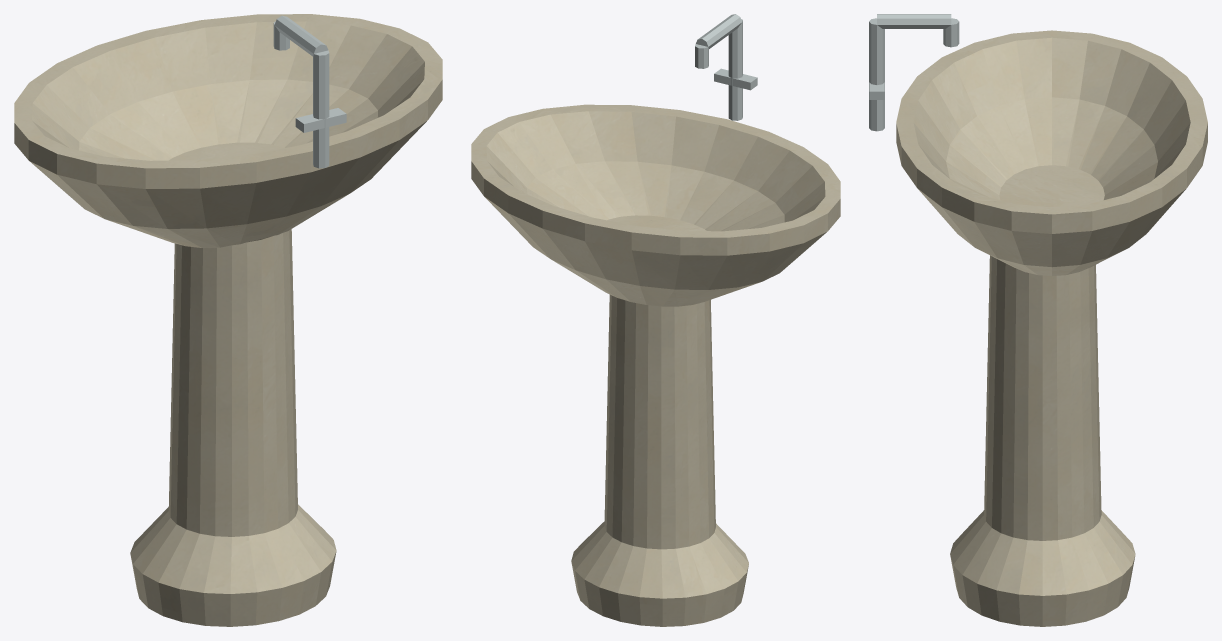
Rendered from bath-sink-stone.gltf.
3 views of the same model, side by side, from view 1: azimuth 30°, elevation 25°; view 2: azimuth 150°, elevation 25°; view 3: azimuth 270°, elevation 25° (orthographic). The views are drawn at different scales.
Parts seen in each view (by area): view 1: fixture-carved, fittings-metal; view 2: fixture-carved, fittings-metal; view 3: fixture-carved, fittings-metal.
Boxes of the visible parts, x1,y1,x2,y2 form: fixture-carved: [14, 14, 442, 626]; fittings-metal: [273, 15, 346, 168]; fixture-carved: [471, 104, 840, 626]; fittings-metal: [695, 14, 757, 120]; fixture-carved: [896, 30, 1207, 626]; fittings-metal: [869, 14, 959, 131].
Bounding box in the file's own units: 0.704 × 1.02 × 0.548.
3 materials, 1 textured.
